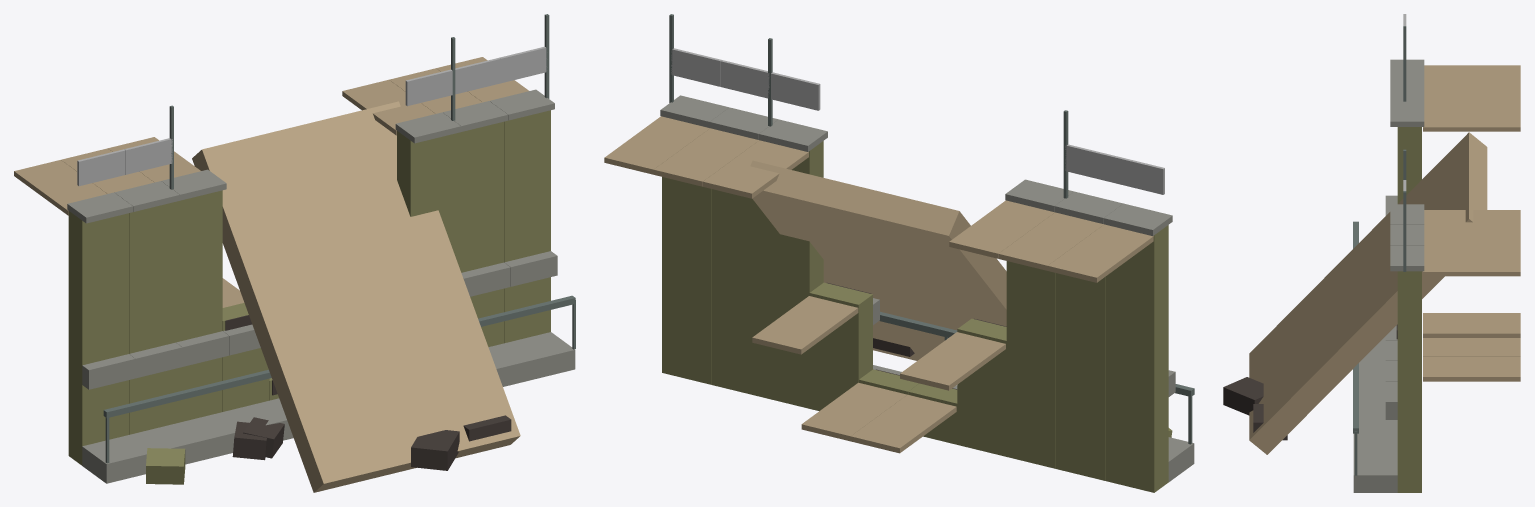
File: SM_MuroRampa_v3_Pasillo_e3_Brecha_LOD1.fbx
3 renders of one model, left to right at view 1: azimuth 30°, elevation 25°; view 2: azimuth 150°, elevation 25°; view 3: azimuth 270°, elevation 25°, orthographic. The views are drawn at different scales.
Parts seen in each view (by area): view 1: SM_muro_rampa_v15_LOD1; view 2: SM_muro_rampa_v15_LOD1; view 3: SM_muro_rampa_v15_LOD1.
Part boxes in pixels (left/top/right/bottom): SM_muro_rampa_v15_LOD1: left=14, top=14, right=575, bottom=492; SM_muro_rampa_v15_LOD1: left=604, top=14, right=1194, bottom=492; SM_muro_rampa_v15_LOD1: left=1223, top=14, right=1520, bottom=492.
Size of the model in its own units: 10.03 by 7.07 by 6.09.
